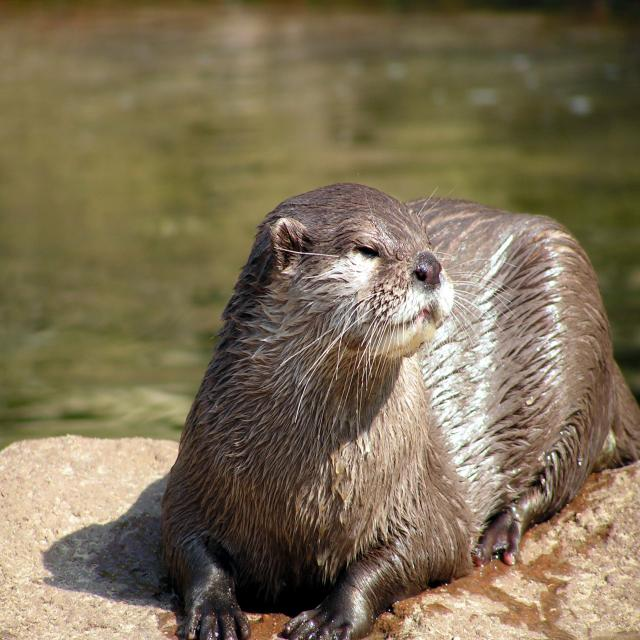otter: (161, 184, 640, 640)
